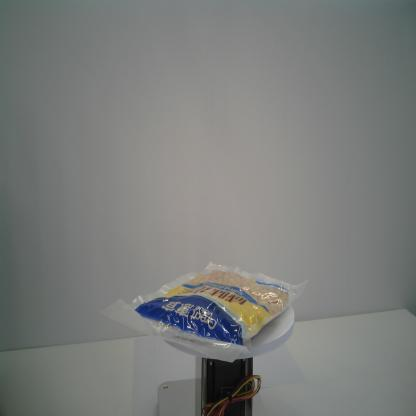Dried Fruit: (98, 259, 309, 366)
